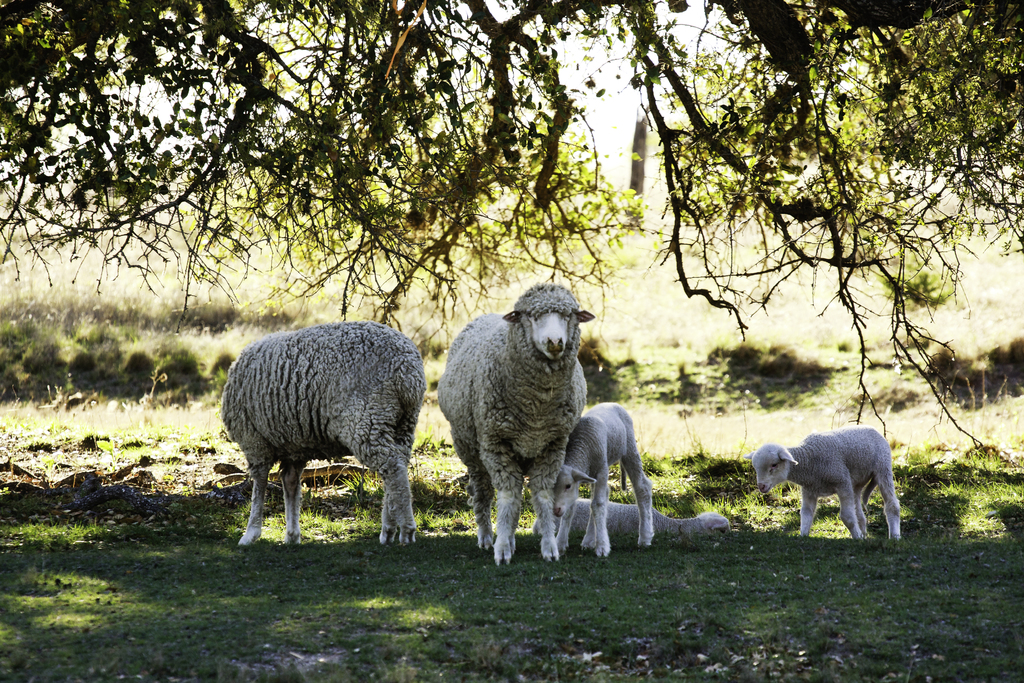sheep: (435, 278, 596, 563), (221, 320, 419, 545), (744, 430, 903, 542)
